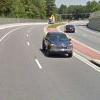Car: (36, 22, 77, 62)
